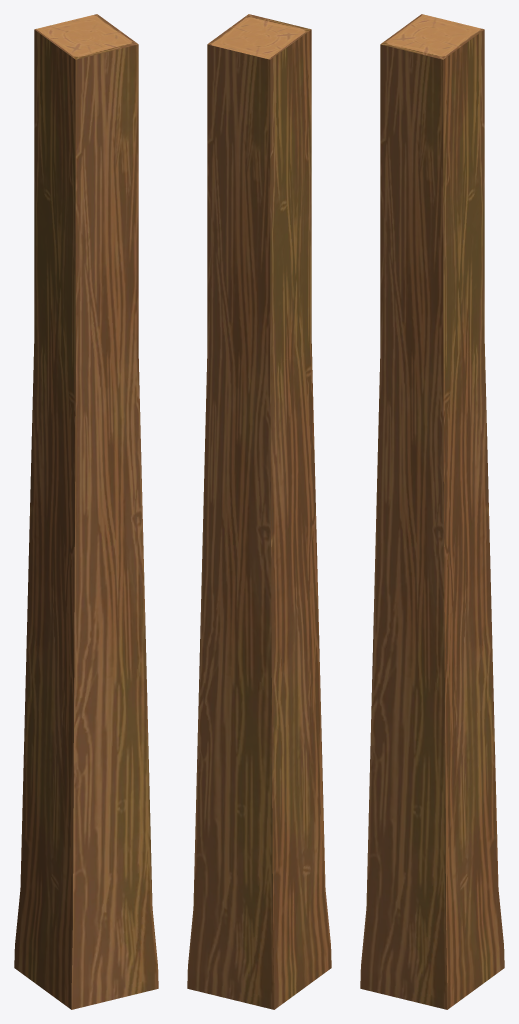
File: Corner_ExteriorWide_Wood.gltf
The picture shows the model from 3 angles, left to right: view 1: azimuth 30°, elevation 25°; view 2: azimuth 150°, elevation 25°; view 3: azimuth 330°, elevation 25°; orthographic projection.
Visible parts, largest first — view 1: Corner_ExteriorWide_Wood; view 2: Corner_ExteriorWide_Wood; view 3: Corner_ExteriorWide_Wood.
Boxes of the visible parts, x1=… form: Corner_ExteriorWide_Wood: x1=14, y1=14, x2=158, y2=1009; Corner_ExteriorWide_Wood: x1=187, y1=14, x2=331, y2=1009; Corner_ExteriorWide_Wood: x1=360, y1=14, x2=504, y2=1009.
Size of the model in its own units: 0.2905 by 3 by 0.3312.
Materials: 1 (1 with a texture image).
